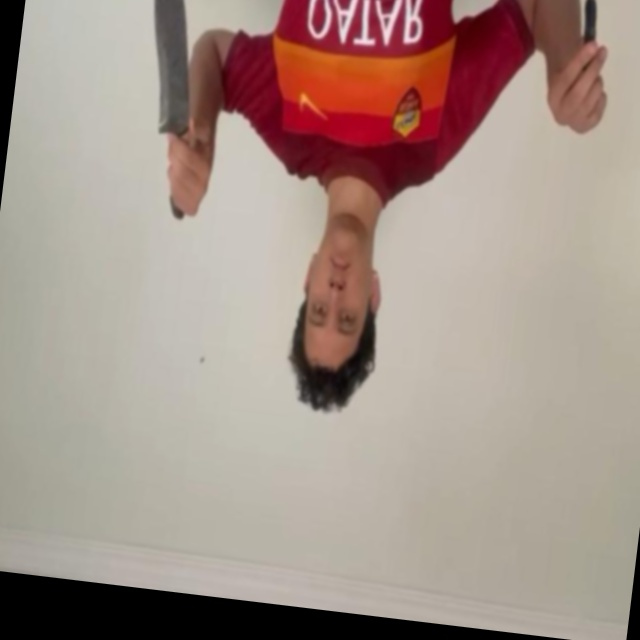Sharp-Object: (137, 0, 215, 138)
